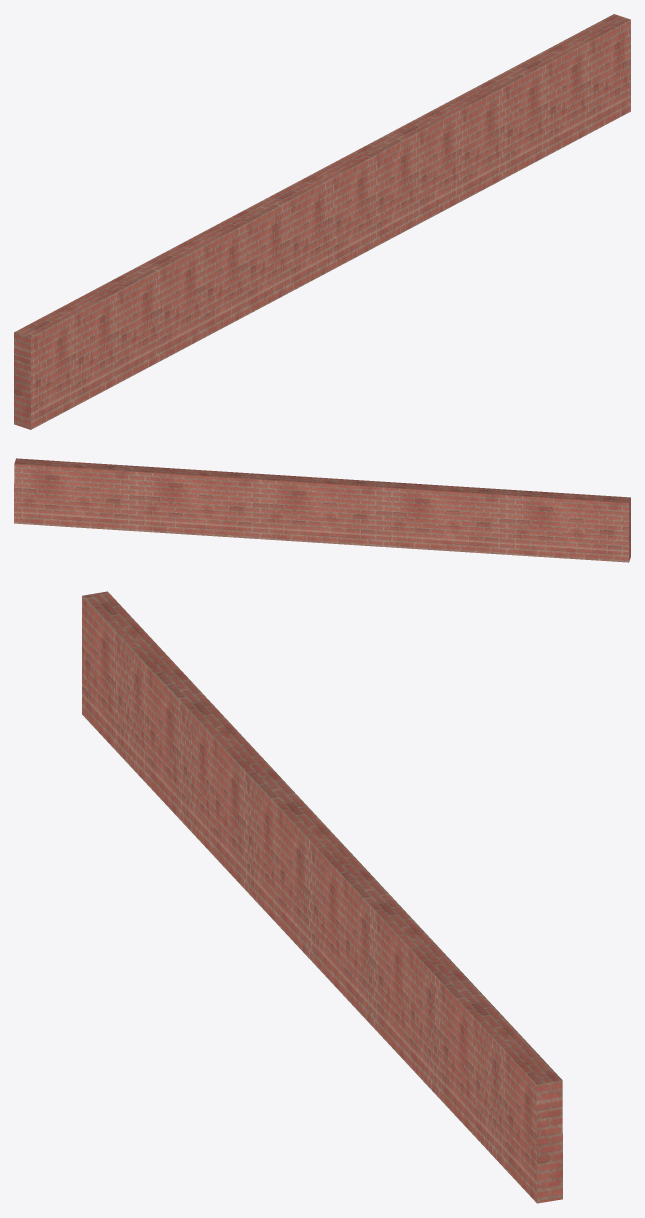
The model's file is bushes01.glb.
3 views of the same model, one above another, from view 1: azimuth 30°, elevation 25°; view 2: azimuth 150°, elevation 25°; view 3: azimuth 270°, elevation 25° (orthographic). The views are drawn at different scales.
Visible parts, largest first — view 1: bushes01; view 2: bushes01; view 3: bushes01.
Boxes of the visible parts, x1,y1,x2,y2 form: bushes01: (14,14,630,429); bushes01: (14,458,630,562); bushes01: (82,591,562,1203).
Size of the model in its own units: 2731 by 306 by 1125.
Materials: 1 (1 with a texture image).
